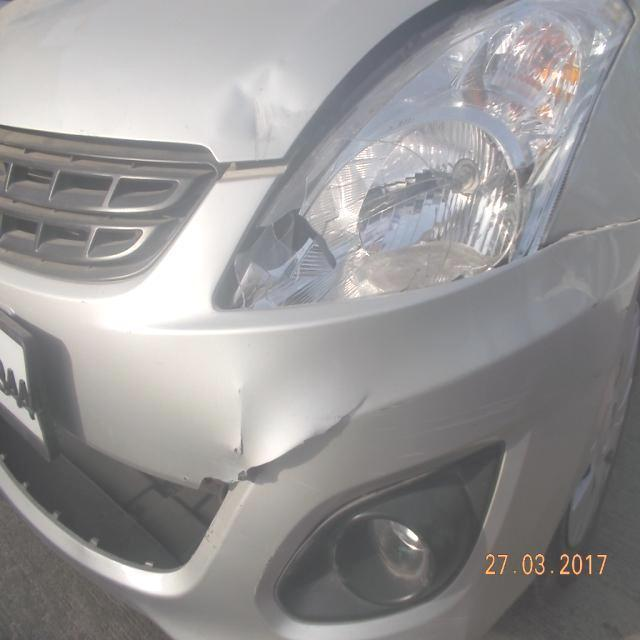minor: (155, 376, 368, 495), (205, 64, 331, 164)
moderate: (213, 65, 518, 310)
